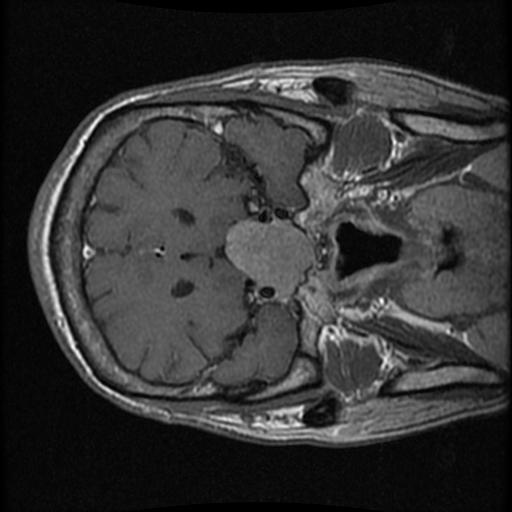pituitary tumour: (225, 220, 312, 295)
